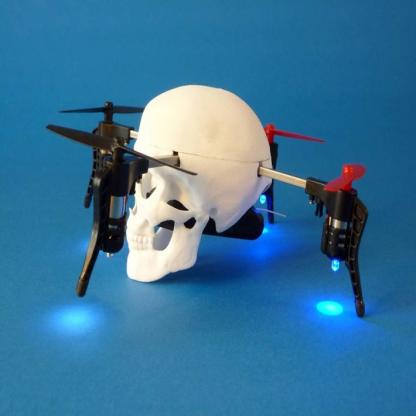drone: (41, 84, 397, 336)
